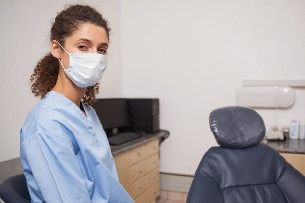Mask: (63, 35, 113, 85)
